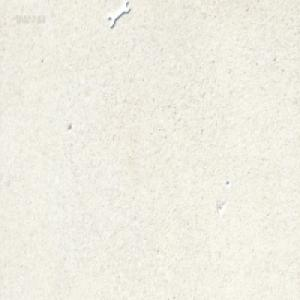Wrench: (108, 0, 130, 27)
